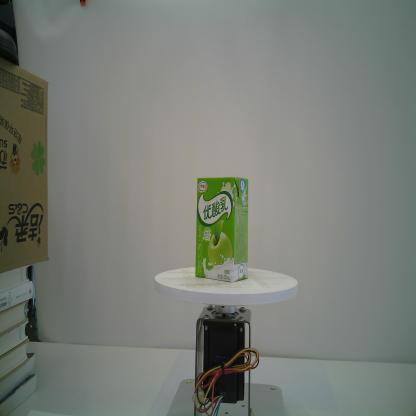Milk: (194, 174, 250, 284)
